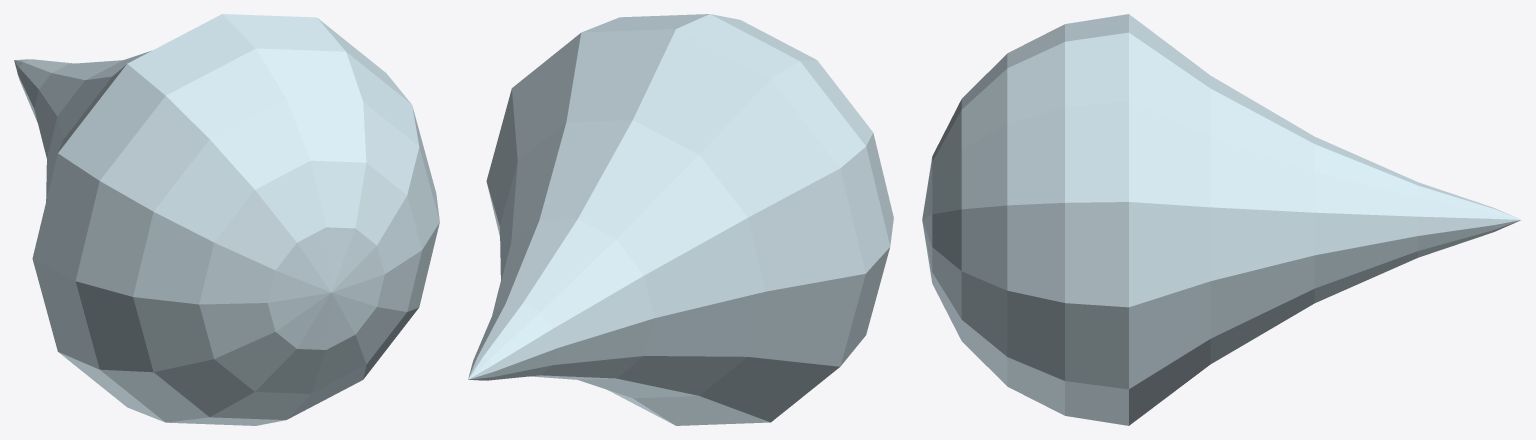
The model's file is wraith_tear_held.gltf.
3 renders of one model, left to right at view 1: azimuth 30°, elevation 25°; view 2: azimuth 150°, elevation 25°; view 3: azimuth 270°, elevation 25°, orthographic. The views are drawn at different scales.
Visible parts, largest first — view 1: inferno_wraith_tear_held; view 2: inferno_wraith_tear_held; view 3: inferno_wraith_tear_held.
Boxes of the visible parts, x1,y1,x2,y2 form: inferno_wraith_tear_held: [14, 14, 439, 425]; inferno_wraith_tear_held: [468, 14, 893, 425]; inferno_wraith_tear_held: [922, 14, 1520, 425].
Bounding box in the file's own units: 0.07 × 0.07 × 0.1015.
